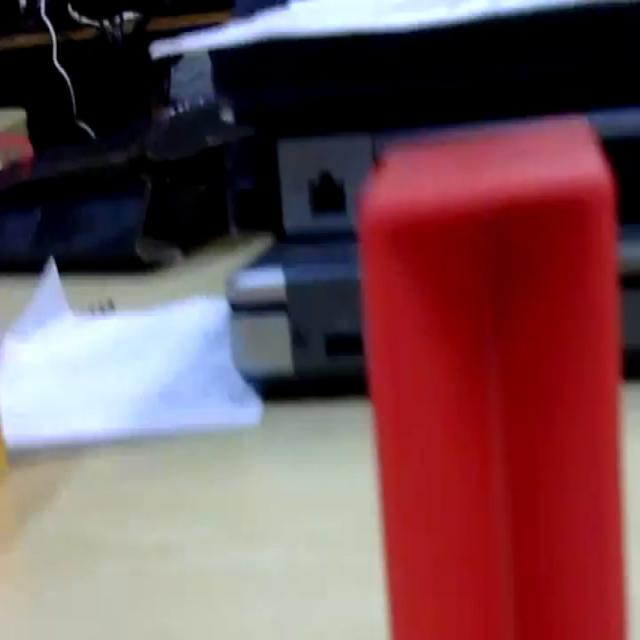red_block: (355, 112, 626, 636)
